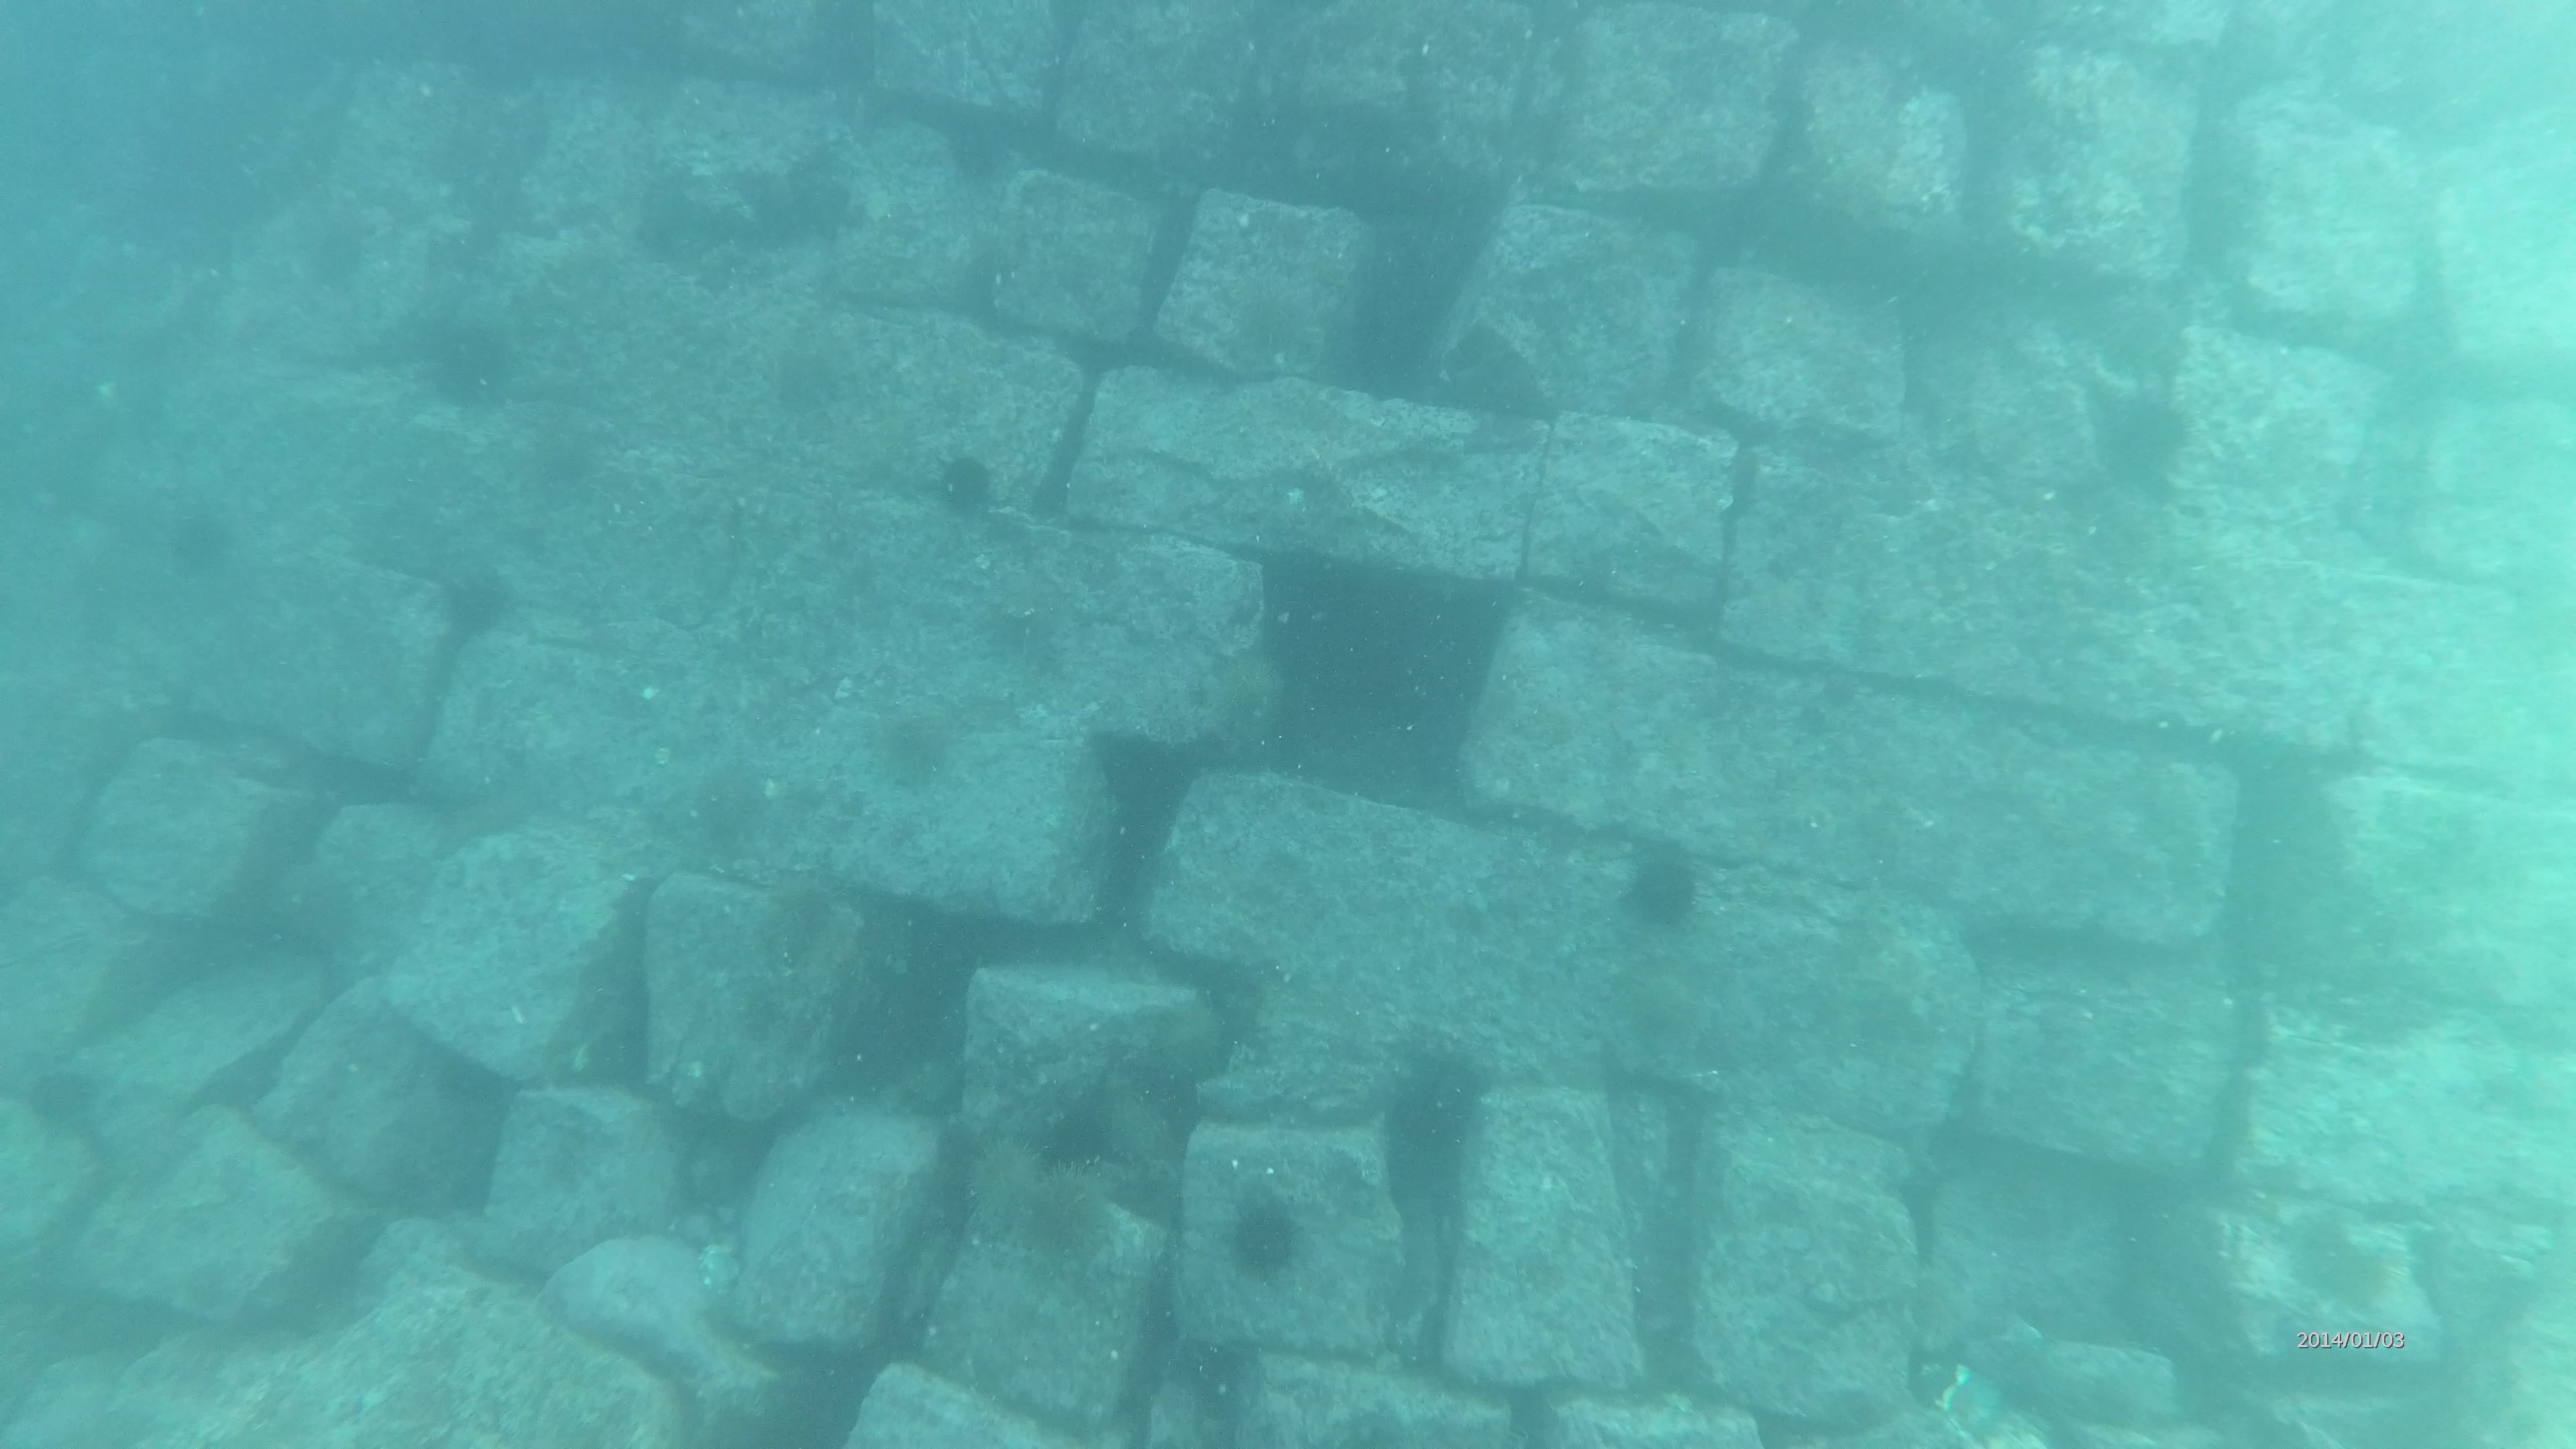echinus: (1601, 957, 1723, 1069), (264, 853, 359, 989), (1081, 1070, 1177, 1187), (1024, 1146, 1111, 1274), (955, 1120, 1044, 1238), (759, 865, 846, 966), (1208, 656, 1292, 761), (872, 701, 964, 794), (419, 322, 517, 409), (690, 750, 771, 840), (435, 570, 522, 651), (166, 510, 251, 577), (1635, 837, 1704, 918), (1233, 1194, 1309, 1263), (943, 451, 996, 508)
